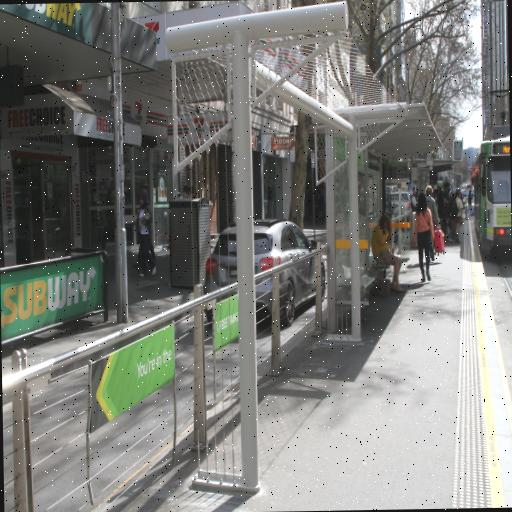platform_edge: (453, 222, 512, 508)
